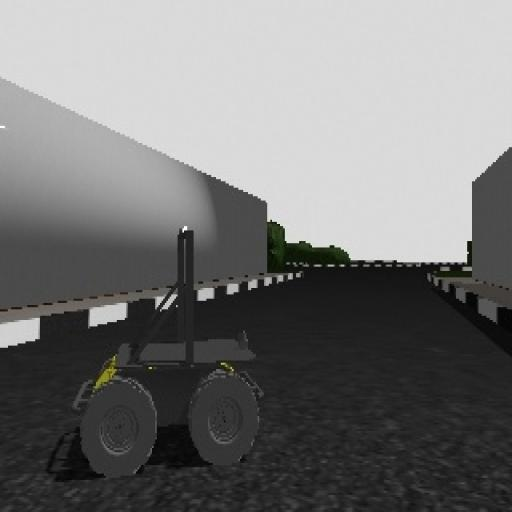huskya200: (40, 212, 278, 491)
